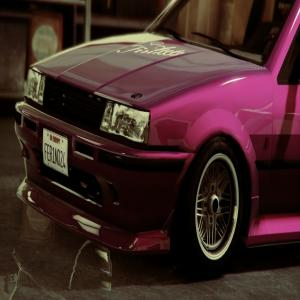Vehicle-registration-plate: (41, 121, 69, 184)
